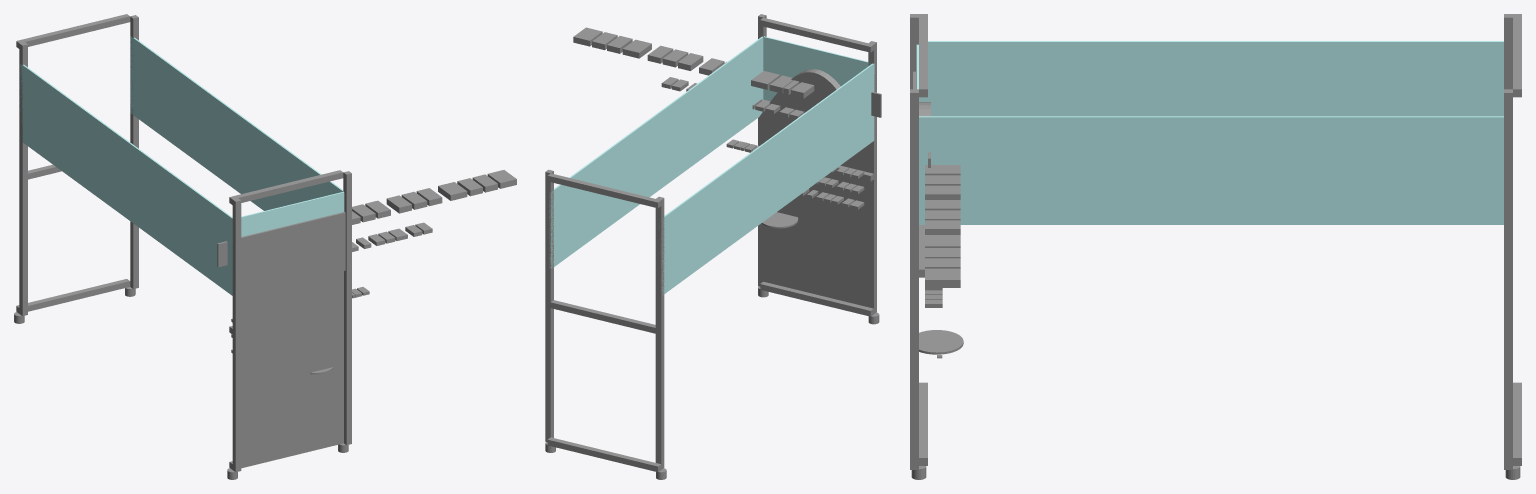
The model's file is Xe bán hàng, đèn led + kính 60 x 140 x 200.obj.
3 renders of one model, left to right at view 1: azimuth 30°, elevation 25°; view 2: azimuth 150°, elevation 25°; view 3: azimuth 270°, elevation 25°, orthographic. The views are drawn at different scales.
Parts seen in each view (by area): view 1: xe_ban_hang_den_led_kinh_60_x_140_x_200; view 2: xe_ban_hang_den_led_kinh_60_x_140_x_200; view 3: xe_ban_hang_den_led_kinh_60_x_140_x_200.
Part boxes in pixels (x1,y1,x2,y2): xe_ban_hang_den_led_kinh_60_x_140_x_200: [14, 14, 516, 479]; xe_ban_hang_den_led_kinh_60_x_140_x_200: [545, 14, 881, 479]; xe_ban_hang_den_led_kinh_60_x_140_x_200: [910, 14, 1521, 479].
Size of the model in its own units: 1.61 by 1.44 by 2.06.
